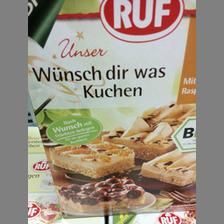Kuchen: (26, 0, 194, 219)
